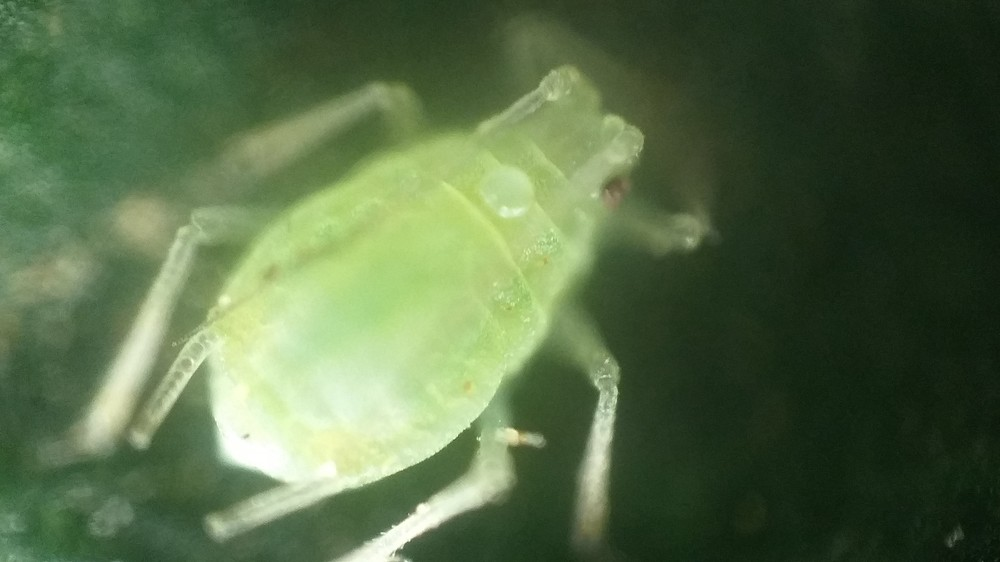Pulgon: (79, 15, 752, 555)
